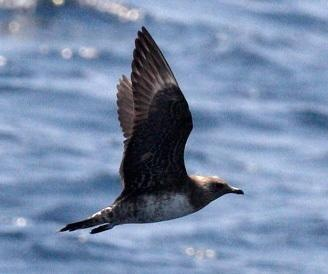bird: (58, 25, 245, 238)
